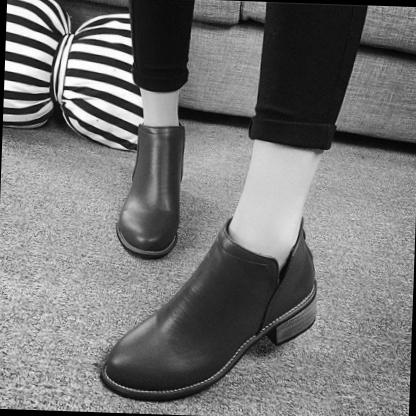ankle: (278, 282, 282, 286), (141, 142, 143, 144)
heel: (312, 282, 316, 286), (134, 176, 136, 178)
left_foot: (118, 125, 187, 260)
pinky: (180, 378, 186, 384), (123, 218, 125, 220)
right_foot: (103, 242, 320, 409)
toe: (118, 346, 124, 352), (168, 239, 170, 241)
